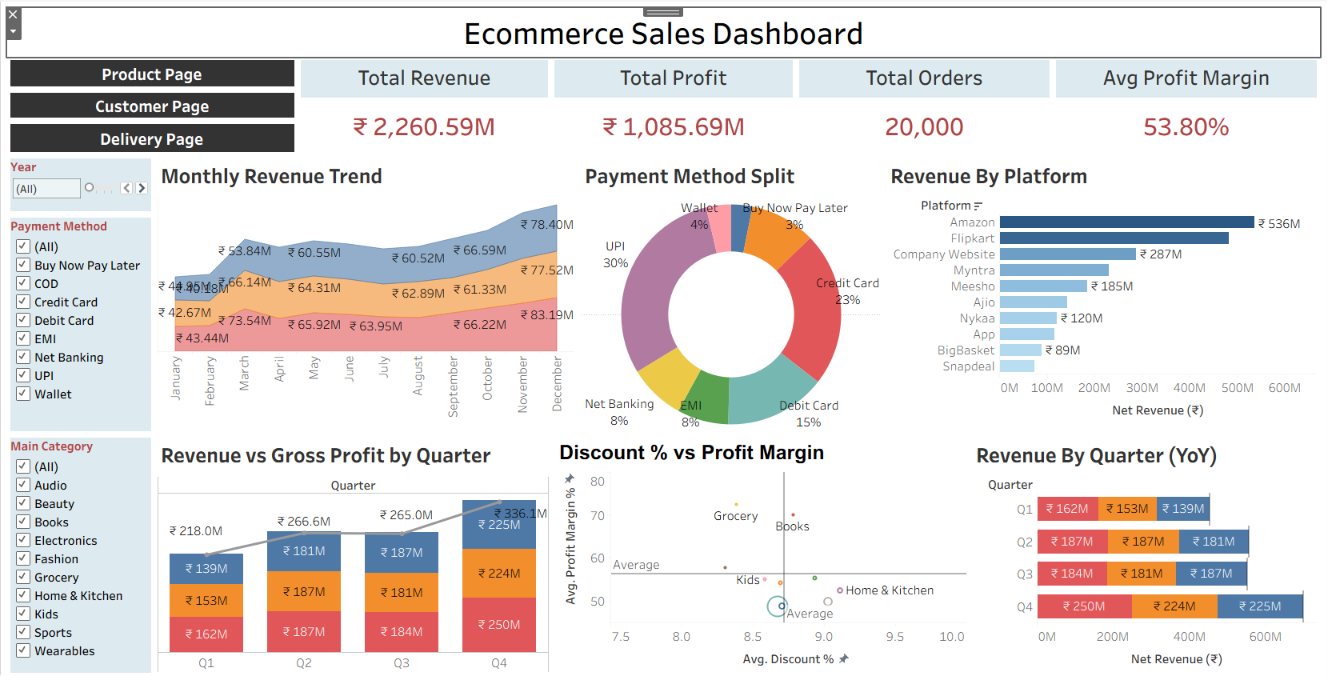

The page's visual inventory and layout, read from the dashboard file:
{"tool":"tableau","page":{"name":"Dashboard 1","canvas":[1000,1000],"units":"permille","ordinal":0},"visuals":[{"type":"text","box":[4.8,9.4,990.3,71.6]},{"type":"dashboard-object","box":[4.8,81,219,48.2]},{"type":"worksheet","title":"Sheet 1","mark":"Automatic","box":[223.9,81,191.6,144.6]},{"type":"worksheet","title":"Sheet 2","mark":"Automatic","box":[415.4,81,184.6,144.6]},{"type":"worksheet","title":"sheet3","mark":"Automatic","box":[600.1,81,193.6,144.6]},{"type":"worksheet","title":"Sheet 4","mark":"Automatic","box":[793.7,81,201.5,144.6]},{"type":"dashboard-object","box":[4.8,129.2,219,45.8]},{"type":"dashboard-object","box":[4.8,175,219,50.6]},{"type":"filter","title":"Monthly Revenue&Profit ","param":"[federated.0h8pdpr1l5hpsp1gd3y1a19098aw].[none:Year:ok]","box":[4.8,225.7,111.1,86.8]},{"type":"worksheet","title":"Monthly Revenue&Profit ","mark":"Area","rows":["Net Revenue (₹)"],"cols":["Order Date"],"box":[115.9,225.7,319.5,409.7]},{"type":"worksheet","title":"Payment Method Split","mark":"Pie","rows":["Calculation_1629538815139841","Calculation_1629538815139841"],"box":[435.4,225.7,230.7,409.7]},{"type":"worksheet","title":"Revenue by Platform","mark":"Bar","rows":["Platform"],"cols":["Net Revenue (₹)"],"box":[666.1,225.7,329,409.7]},{"type":"filter","title":"Payment Method Split","param":"[federated.0h8pdpr1l5hpsp1gd3y1a19098aw].[none:Payment Method:nk]","box":[4.8,312.4,111.1,322.9]},{"type":"filter","title":"Discount % vs Profit Margin % by Category","param":"[federated.0h8pdpr1l5hpsp1gd3y1a19098aw].[none:Main Category:nk]","box":[4.8,635.3,111,355.3]},{"type":"worksheet","title":"Revenue vs Gross Profit by Year","mark":"Bar","rows":["Net Revenue (₹)","Gross Profit (₹)"],"cols":["Quarter"],"box":[115.8,635.3,300.6,355.3]},{"type":"worksheet","title":"Discount % vs Profit Margin % by Category","mark":"Automatic","rows":["Profit Margin %"],"cols":["Discount %"],"box":[416.4,635.3,314.4,355.3]},{"type":"worksheet","title":"Quarterly Revenue Growth","mark":"Automatic","rows":["Quarter"],"cols":["Net Revenue (₹)"],"box":[730.8,635.3,264.4,355.3]}]}

Visuals, with their boxes on the dashboard's canvas, which has no fixed pixel size, in thousandths of its width and height (x1, y1, x2, y2). These are canvas units, not pixel positions in the 1327x676 screenshot, which may show the page scaled, cropped or inside an application window:
text: {"x1": 5, "y1": 9, "x2": 995, "y2": 81}
dashboard-object: {"x1": 5, "y1": 81, "x2": 224, "y2": 129}
"Sheet 1" worksheet: {"x1": 224, "y1": 81, "x2": 416, "y2": 226}
"Sheet 2" worksheet: {"x1": 415, "y1": 81, "x2": 600, "y2": 226}
"sheet3" worksheet: {"x1": 600, "y1": 81, "x2": 794, "y2": 226}
"Sheet 4" worksheet: {"x1": 794, "y1": 81, "x2": 995, "y2": 226}
dashboard-object: {"x1": 5, "y1": 129, "x2": 224, "y2": 175}
dashboard-object: {"x1": 5, "y1": 175, "x2": 224, "y2": 226}
"Monthly Revenue&Profit " filter: {"x1": 5, "y1": 226, "x2": 116, "y2": 312}
"Monthly Revenue&Profit " worksheet (Area marks): {"x1": 116, "y1": 226, "x2": 435, "y2": 635}
"Payment Method Split" worksheet (Pie marks): {"x1": 435, "y1": 226, "x2": 666, "y2": 635}
"Revenue by Platform" worksheet (Bar marks): {"x1": 666, "y1": 226, "x2": 995, "y2": 635}
"Payment Method Split" filter: {"x1": 5, "y1": 312, "x2": 116, "y2": 635}
"Discount % vs Profit Margin % by Category" filter: {"x1": 5, "y1": 635, "x2": 116, "y2": 991}
"Revenue vs Gross Profit by Year" worksheet (Bar marks): {"x1": 116, "y1": 635, "x2": 416, "y2": 991}
"Discount % vs Profit Margin % by Category" worksheet: {"x1": 416, "y1": 635, "x2": 731, "y2": 991}
"Quarterly Revenue Growth" worksheet: {"x1": 731, "y1": 635, "x2": 995, "y2": 991}
